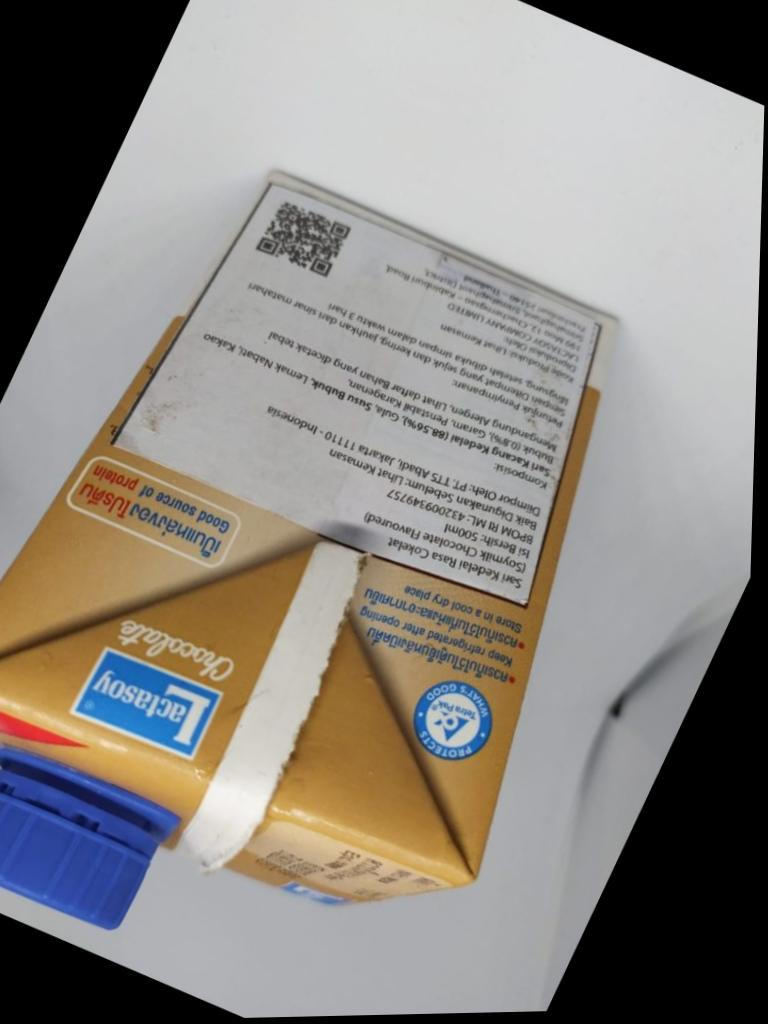cardboard: (0, 173, 694, 932)
